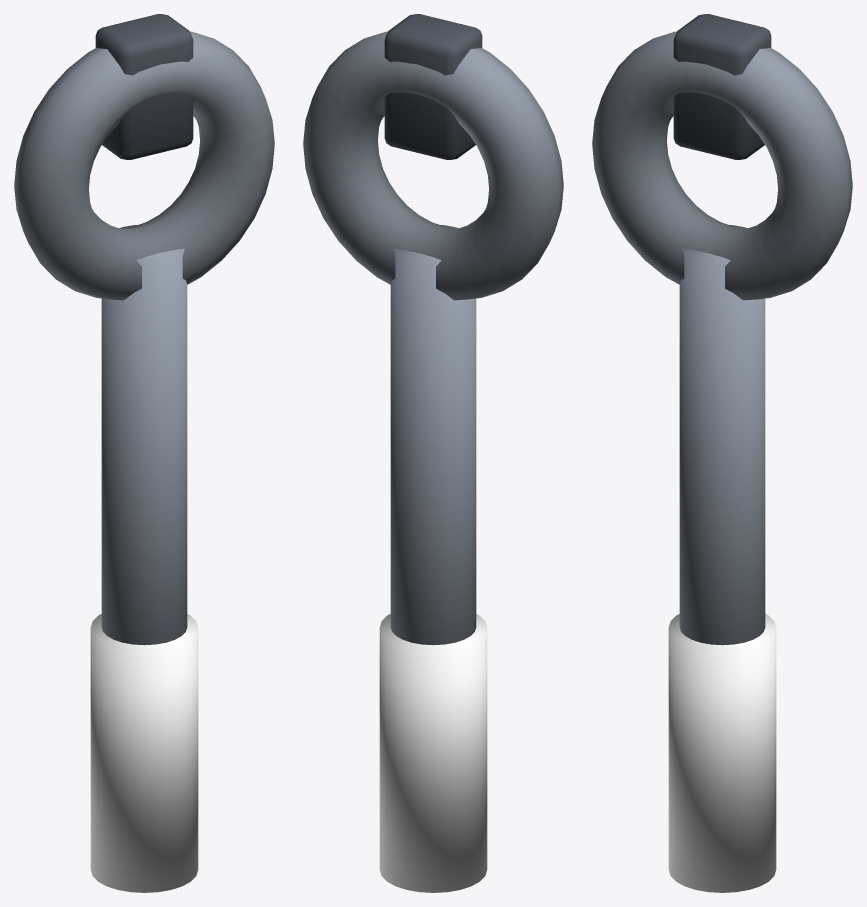
The model's file is llave_inglesa.glb.
The picture shows the model from 3 angles, left to right: view 1: azimuth 30°, elevation 25°; view 2: azimuth 150°, elevation 25°; view 3: azimuth 330°, elevation 25°; orthographic projection.
Parts seen in each view (by area): view 1: llave_inglesa_fijo; view 2: llave_inglesa_fijo; view 3: llave_inglesa_fijo.
Boxes of the visible parts, x1,y1,x2,y2 form: llave_inglesa_fijo: (14,14,274,892); llave_inglesa_fijo: (303,14,563,892); llave_inglesa_fijo: (592,14,852,892).
Size of the model in its own units: 0.27 by 0.865 by 0.1.
Materials: 2 (2 with a texture image).
